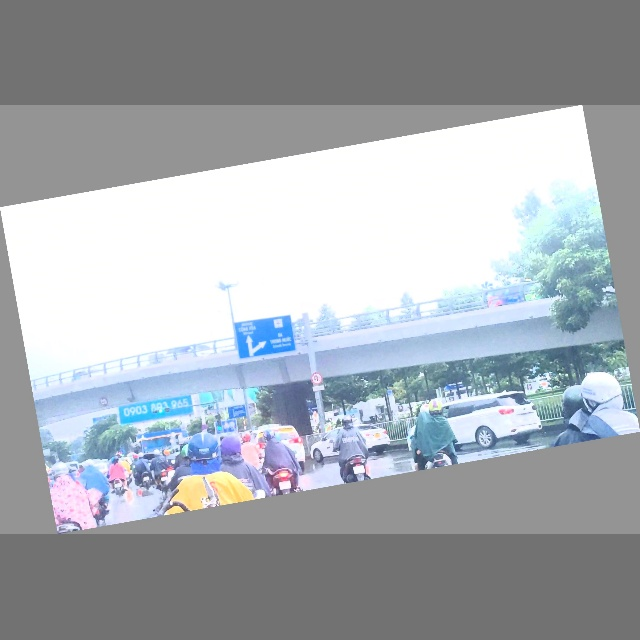P.124b1: (310, 372, 324, 387)
